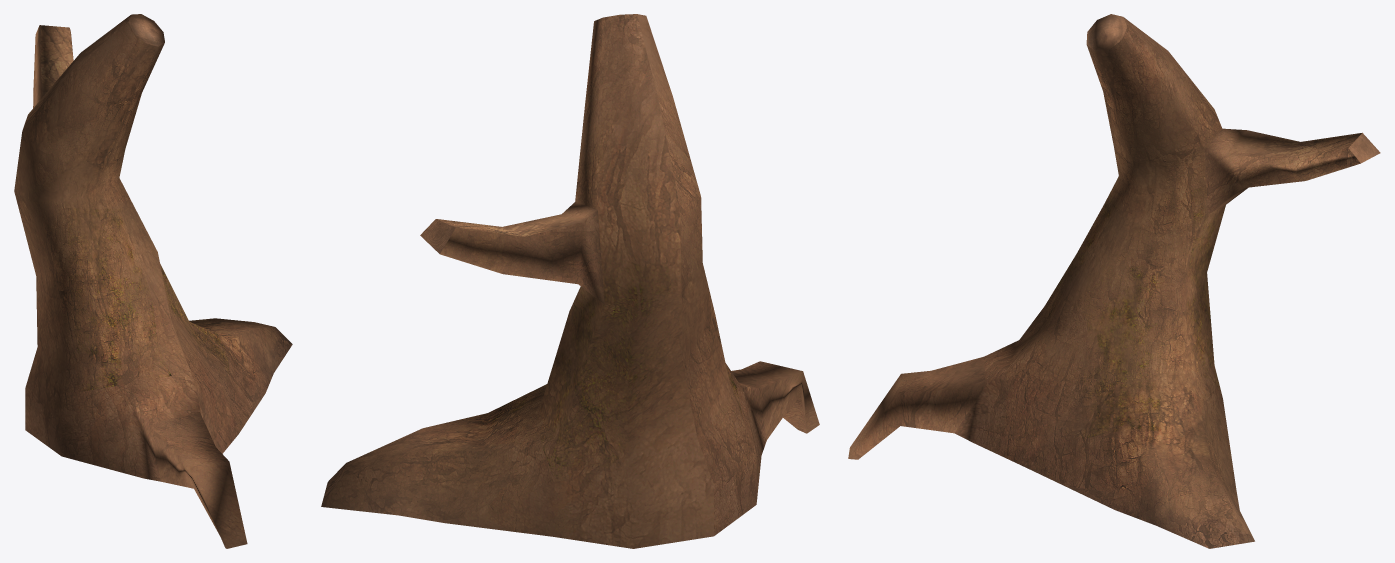
The model's file is Tree_1.fbx.
3 renders of one model, left to right at view 1: azimuth 30°, elevation 25°; view 2: azimuth 150°, elevation 25°; view 3: azimuth 270°, elevation 25°, orthographic. The views are drawn at different scales.
Visible parts, largest first — view 1: polySurface25; view 2: polySurface25; view 3: polySurface25.
Boxes of the visible parts, bbox=[...] form: polySurface25: bbox=[14, 14, 292, 548]; polySurface25: bbox=[321, 14, 819, 548]; polySurface25: bbox=[848, 14, 1380, 548].
Bounding box in the file's own units: 191 × 268 × 285.
